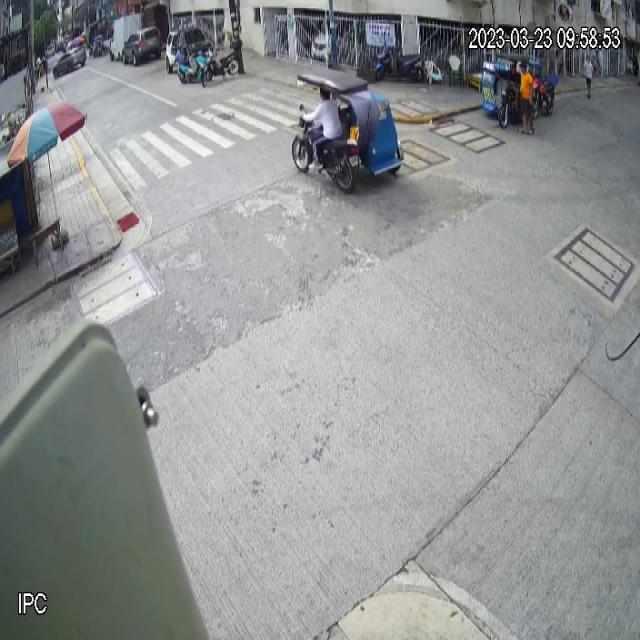Tricycle: (292, 68, 404, 195), (481, 52, 529, 129)
